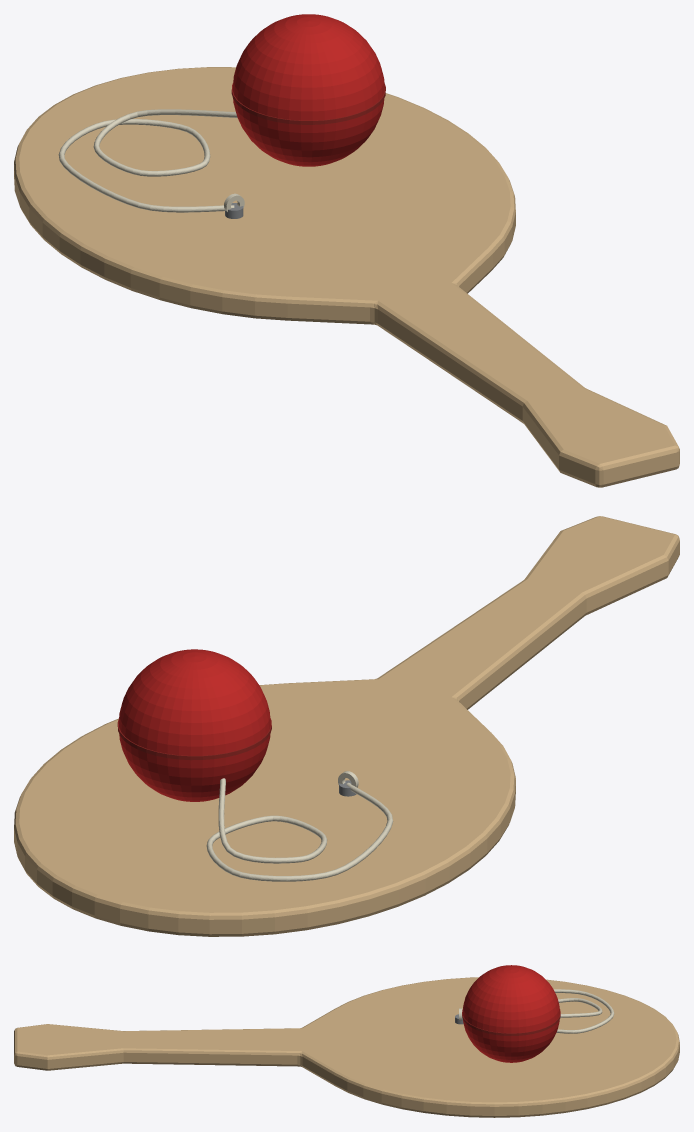
Rendered from full.glb.
3 views of the same model, one above another, from view 1: azimuth 30°, elevation 25°; view 2: azimuth 150°, elevation 25°; view 3: azimuth 270°, elevation 25° (orthographic). The views are drawn at different scales.
Parts seen in each view (by area): view 1: One piece oval paddle and waisted handle, Rubber ball, Continuous slack elastic, Equatorial molded seam; view 2: One piece oval paddle and waisted handle, Rubber ball, Continuous slack elastic, Equatorial molded seam; view 3: One piece oval paddle and waisted handle, Rubber ball, Continuous slack elastic, Equatorial molded seam.
Boxes of the visible parts, box(x1,y1,x2,y2) form: One piece oval paddle and waisted handle: box(14, 67, 679, 487); Rubber ball: box(232, 14, 384, 166); Continuous slack elastic: box(58, 109, 237, 212); Equatorial molded seam: box(231, 83, 385, 124); One piece oval paddle and waisted handle: box(14, 516, 679, 936); Rubber ball: box(118, 649, 270, 801); Continuous slack elastic: box(206, 778, 393, 881); Equatorial molded seam: box(117, 718, 271, 760); One piece oval paddle and waisted handle: box(14, 977, 679, 1117); Rubber ball: box(462, 965, 559, 1062); Continuous slack elastic: box(553, 989, 614, 1033); Equatorial molded seam: box(462, 1009, 560, 1035).
Bounding box in the file's own units: 0.18 × 0.0675 × 0.395.
